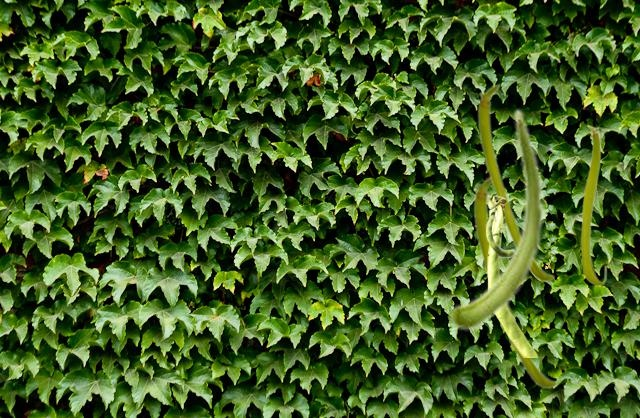french_bean: (448, 107, 544, 330), (473, 176, 557, 388), (477, 83, 554, 281), (485, 195, 537, 356), (580, 124, 606, 285)
